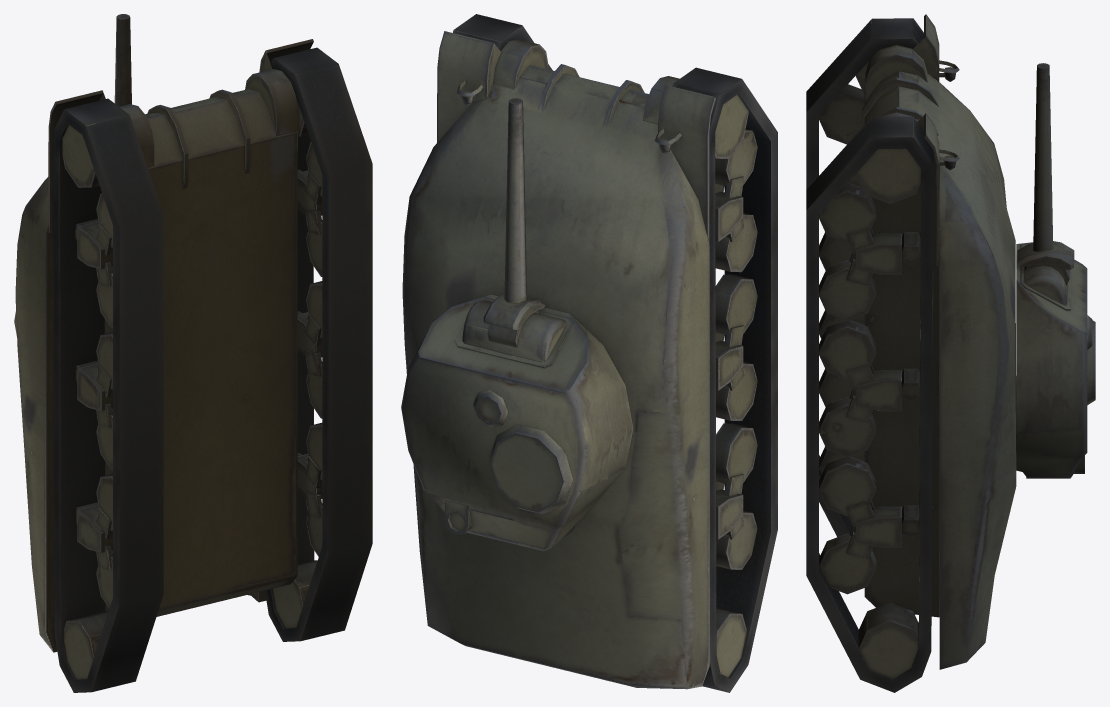
3 renders of one model, left to right at view 1: azimuth 30°, elevation 25°; view 2: azimuth 150°, elevation 25°; view 3: azimuth 270°, elevation 25°, orthographic. The views are drawn at different scales.
Visible parts, largest first — view 1: M4A1, M4A1 Turret; view 2: M4A1, M4A1 Turret; view 3: M4A1, M4A1 Turret.
Boxes of the visible parts, x1,y1,x2,y2 form: M4A1: (15, 39, 372, 692); M4A1 Turret: (14, 14, 131, 335); M4A1: (402, 14, 777, 692); M4A1 Turret: (401, 98, 633, 551); M4A1: (806, 14, 1016, 692); M4A1 Turret: (1016, 63, 1095, 478).
Bounding box in the file's own units: 115 × 248 × 114.
